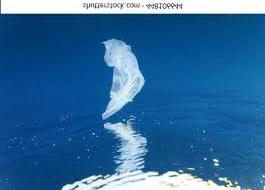Trash: (100, 33, 160, 123)
